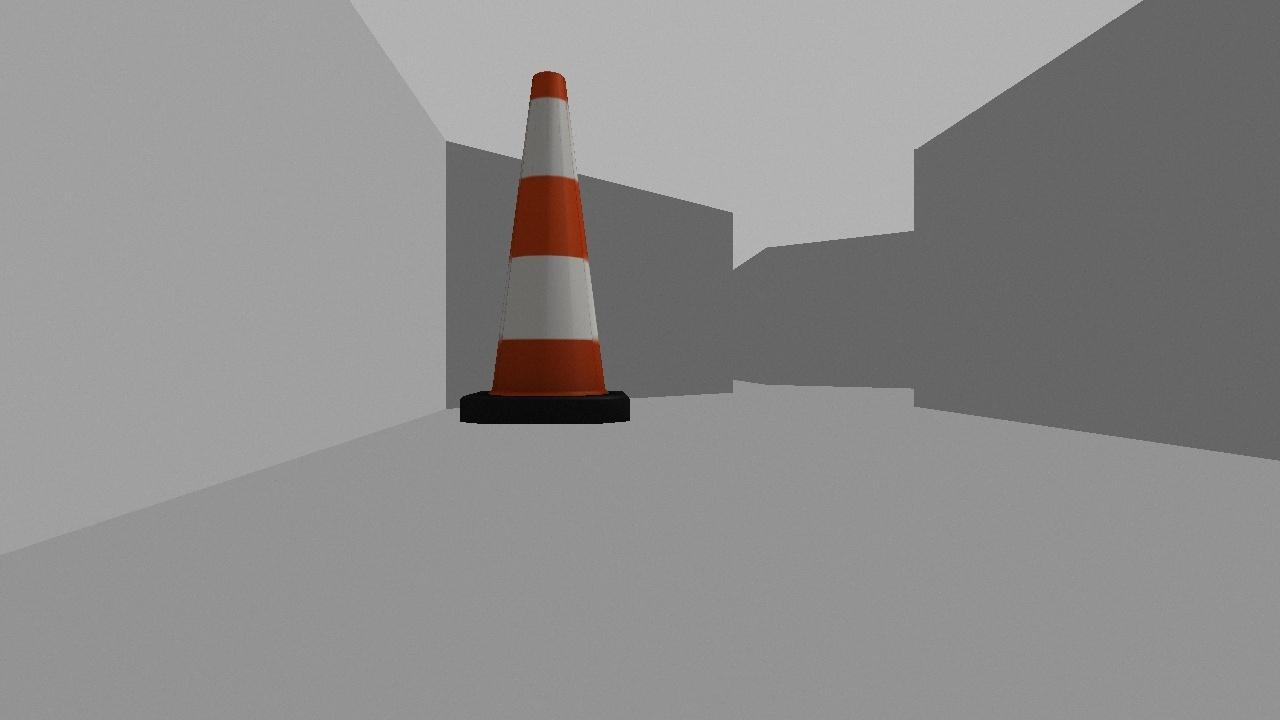cone_barrel: (456, 70, 628, 425)
